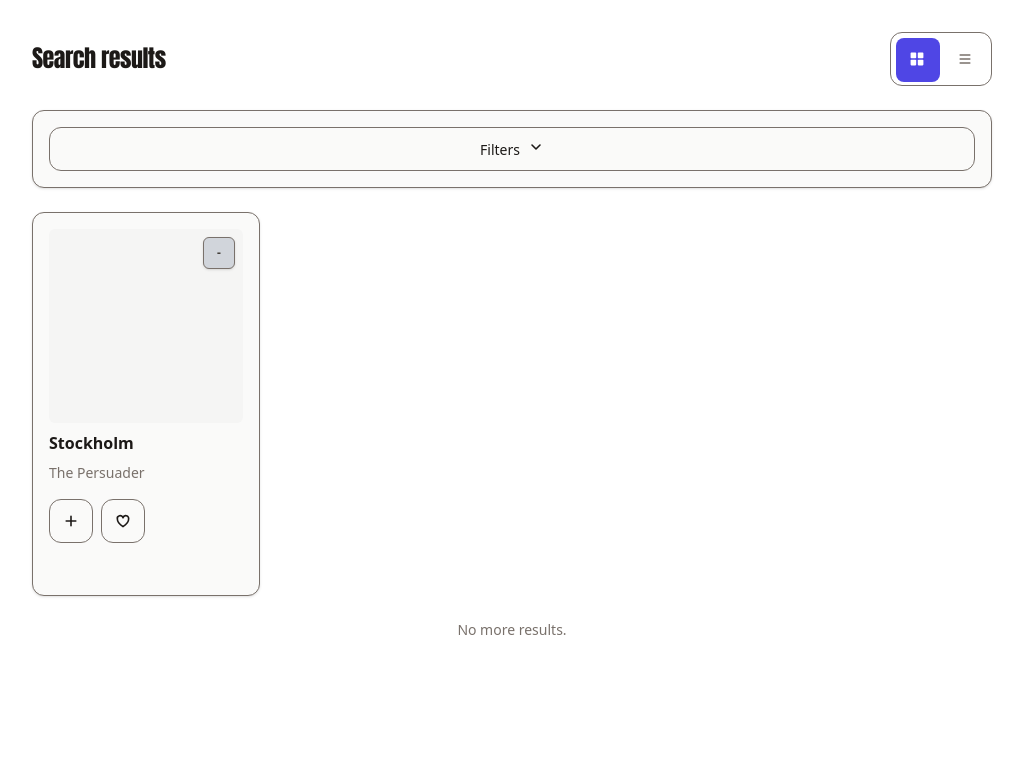
Test case: SearchResultsPage › add to wishlist (feature 060, US2) › adds the release to the wishlist and reflects the in-wishlist state
This screenshot has width=1024, height=768.
Expected: the text "Stockholm" is shown, [49,432,134,454]
Click the button named "add to wishlist".
click(123, 521)  # box [101,499,145,543]
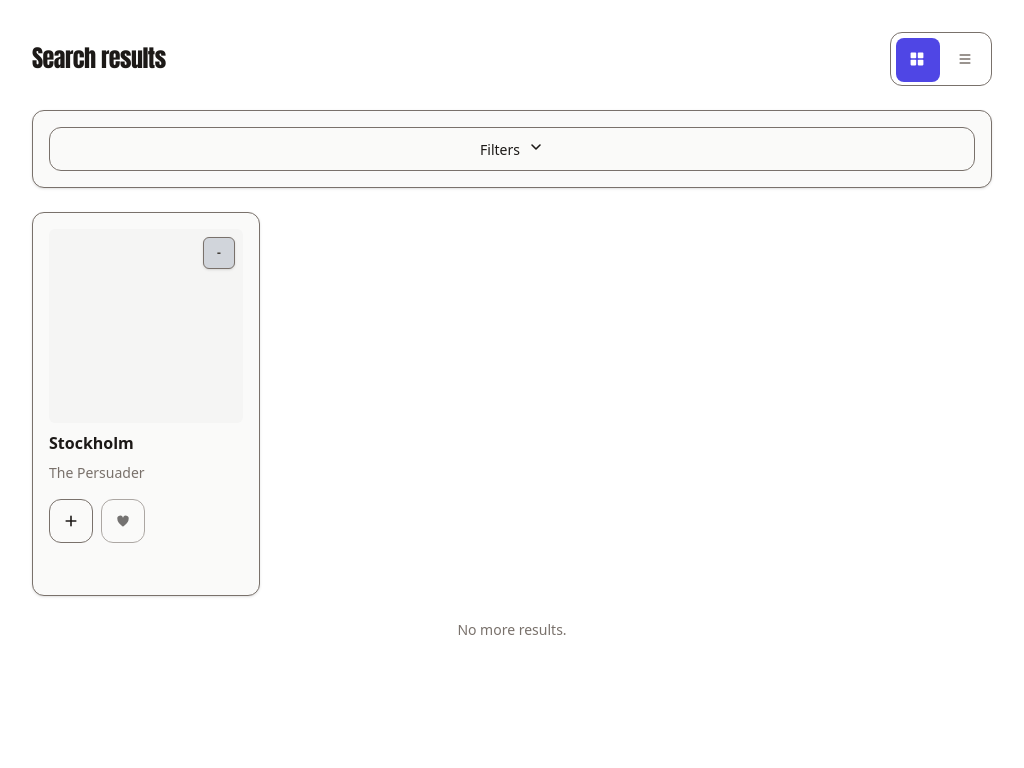
Result: the button named "in your wishlist" is shown at [101,499,145,543]
